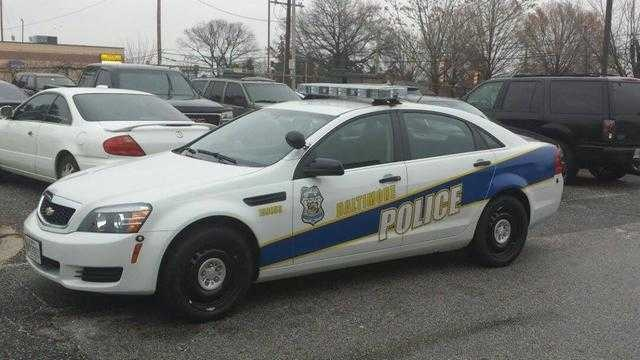Police Car: (33, 74, 601, 360)
